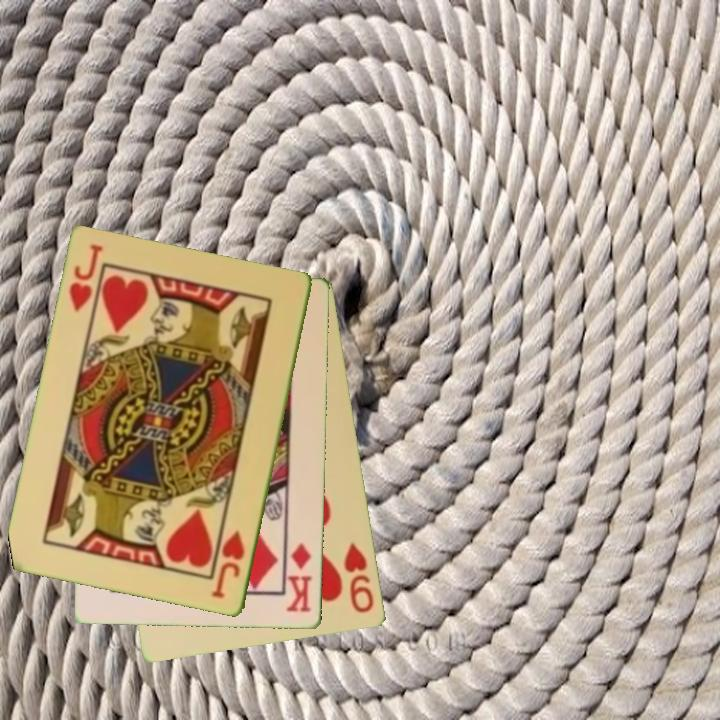9h: (341, 540, 377, 616)
Jh: (208, 527, 248, 602), (66, 241, 106, 315)
Kd: (283, 540, 315, 616)
